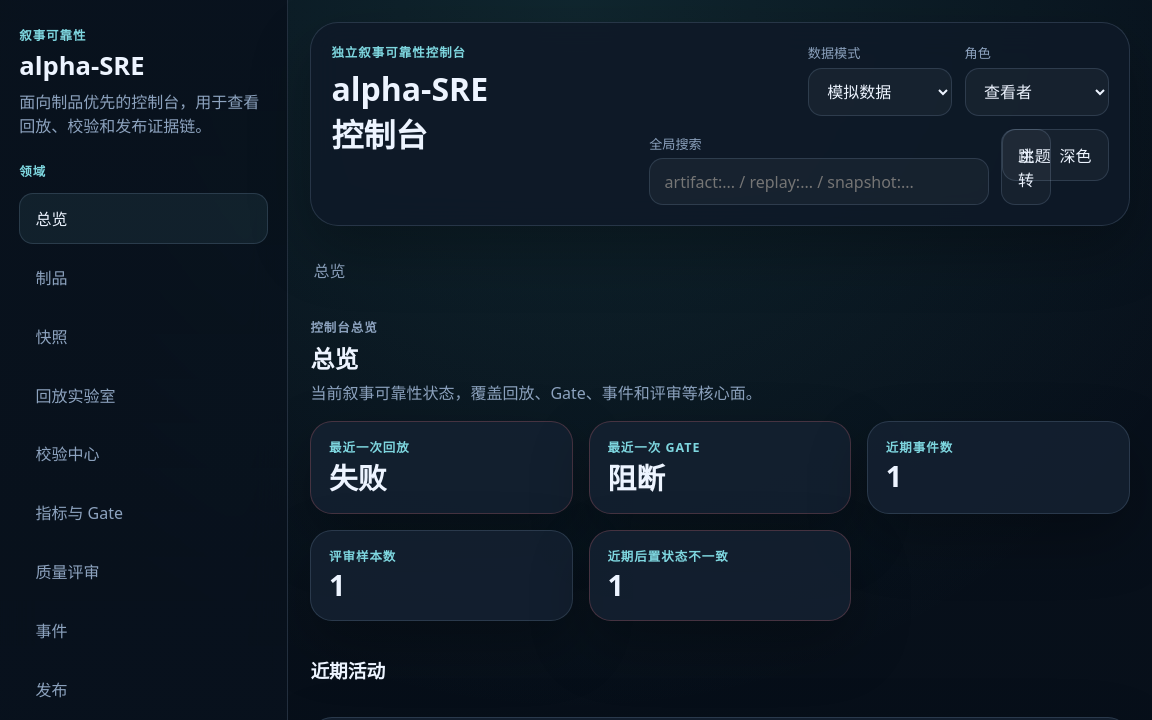
failure class coverage › surfaces the named replay and validation failure classes from the seeded provider
The width and height of the screenshot is (1152, 720).
Click the link "回放实验室" at (75, 396), box x1=35 y1=385 x2=115 y2=407
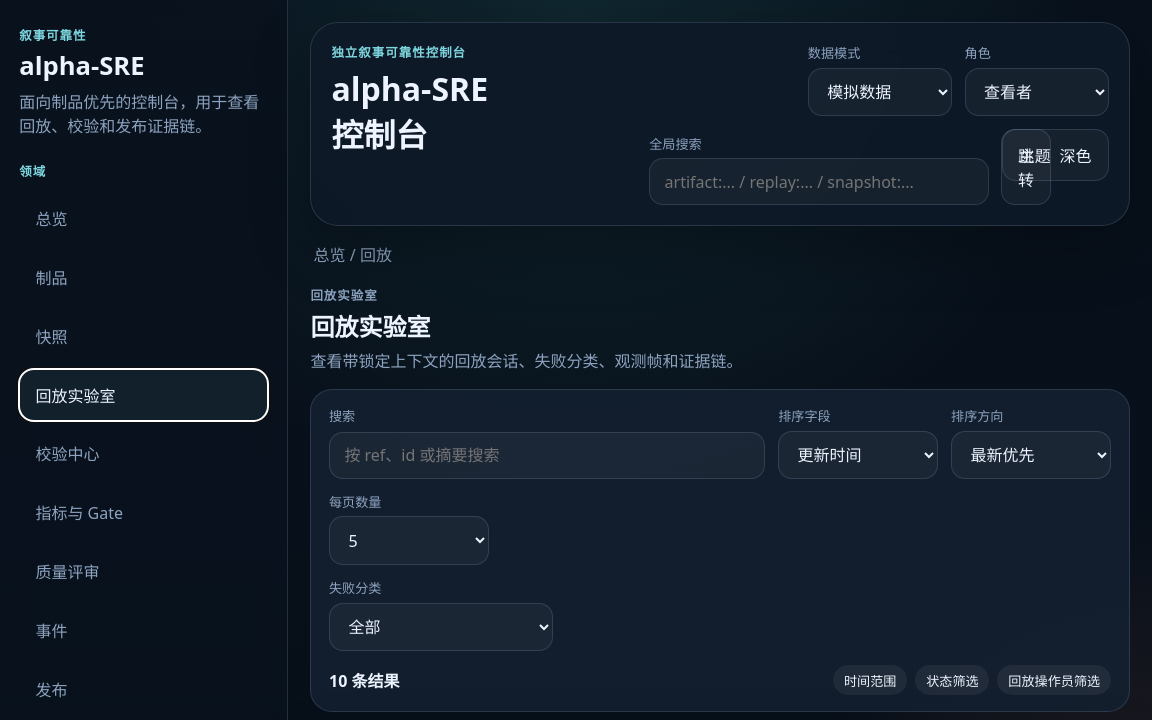
Click the link "校验中心" at (67, 454), box x1=35 y1=444 x2=99 y2=466
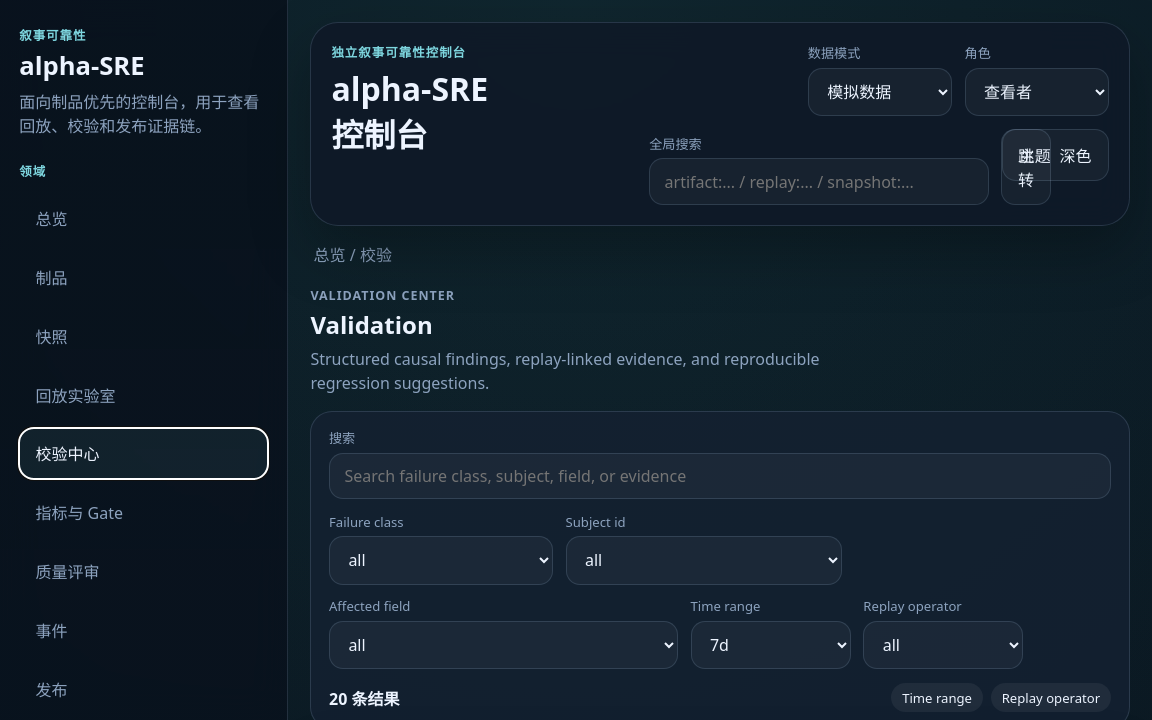
Expected: the dropdown labelled "Failure class" is shown, x1=329 y1=536 x2=553 y2=585
